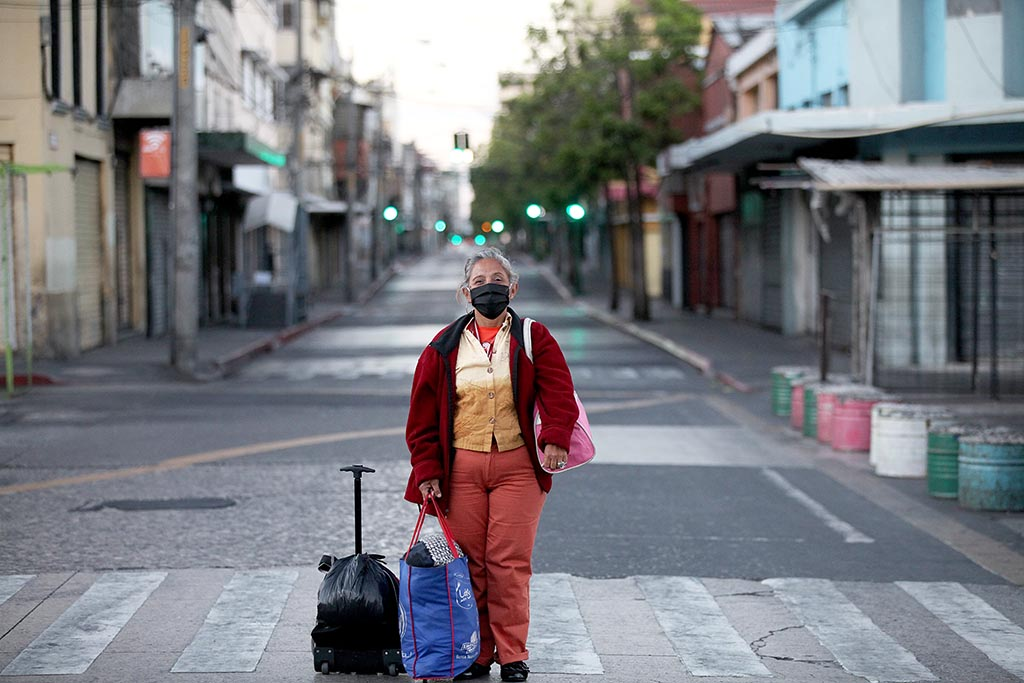person: (385, 243, 609, 683)
